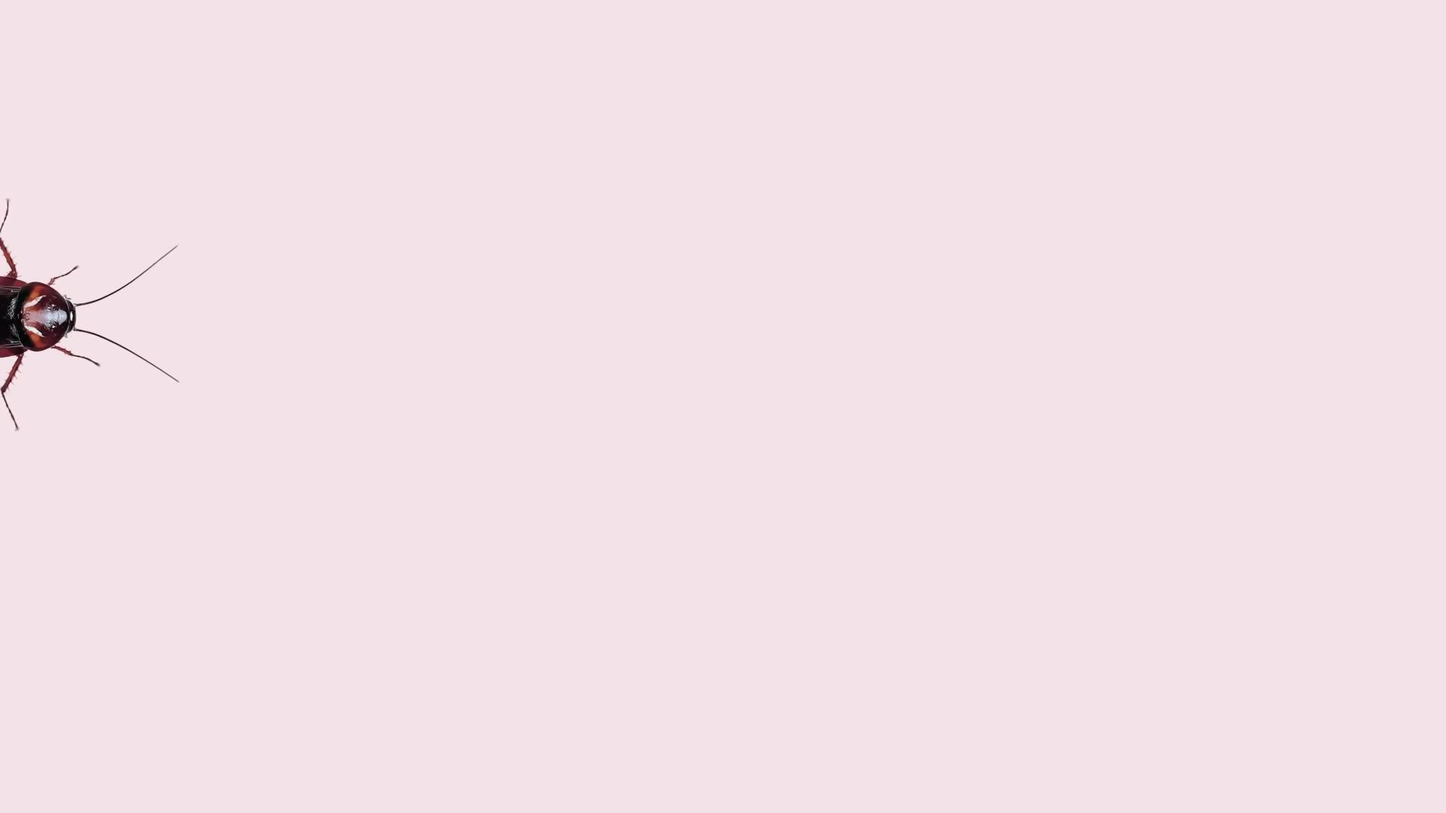cockroach: (6, 197, 185, 452)
